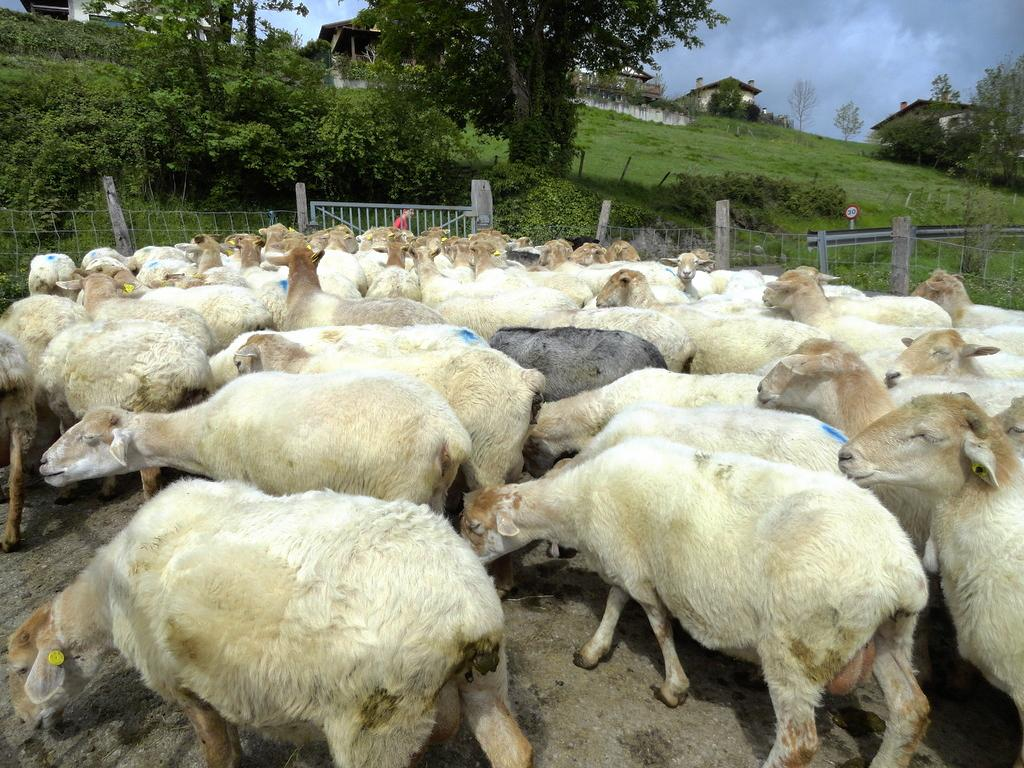Sheep: (453, 440, 930, 768), (8, 484, 530, 768), (832, 374, 1024, 756), (220, 330, 528, 510), (742, 335, 1018, 530), (25, 296, 220, 511), (549, 357, 829, 466), (609, 272, 827, 370), (212, 320, 481, 395), (266, 243, 446, 332), (49, 270, 218, 351), (430, 252, 556, 343), (513, 288, 663, 352), (909, 271, 1024, 338), (885, 320, 1024, 374), (555, 252, 670, 306), (492, 251, 598, 307), (452, 244, 538, 292), (305, 235, 369, 297), (660, 252, 726, 299), (132, 252, 205, 288), (424, 241, 484, 284), (26, 254, 78, 298)
